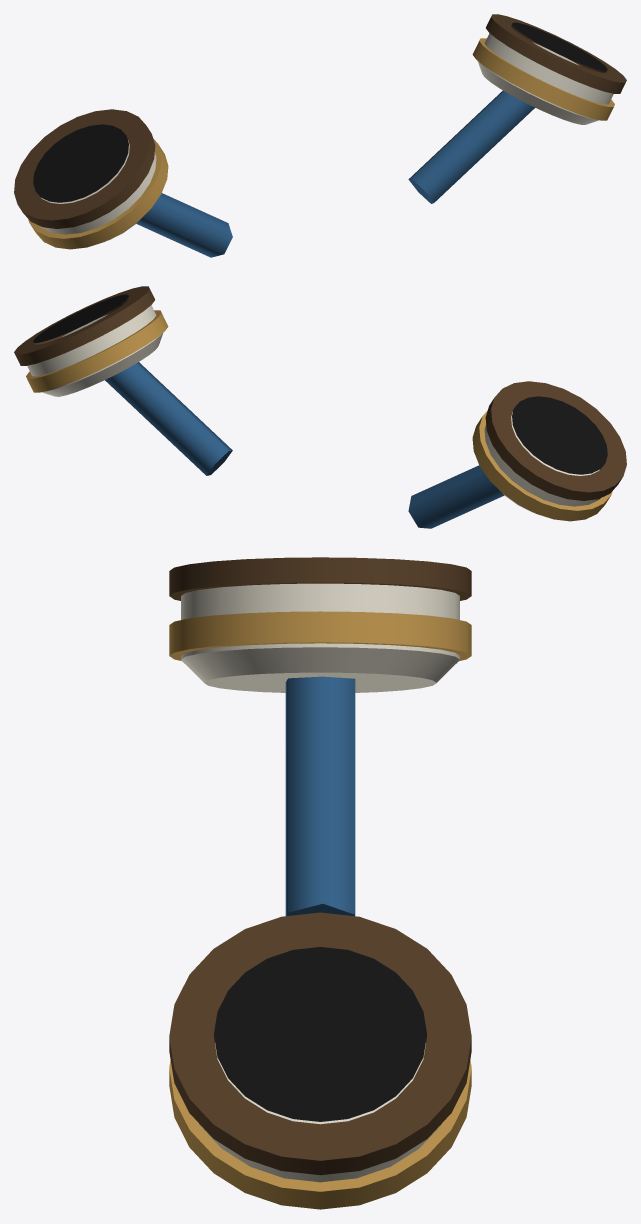
The model's file is rm2_thrusters_fore.obj.
3 renders of one model, top to bottom at view 1: azimuth 30°, elevation 25°; view 2: azimuth 150°, elevation 25°; view 3: azimuth 270°, elevation 25°, orthographic. The views are drawn at different scales.
Parts seen in each view (by area): view 1: rm2_thrusters_fore; view 2: rm2_thrusters_fore; view 3: rm2_thrusters_fore.
Boxes of the visible parts, box(x1,y1,x2,y2) form: rm2_thrusters_fore: box(14, 14, 626, 257); rm2_thrusters_fore: box(14, 286, 626, 528); rm2_thrusters_fore: box(169, 557, 471, 1209).
Size of the model in its own units: 0.703 by 0.18 by 0.156.
